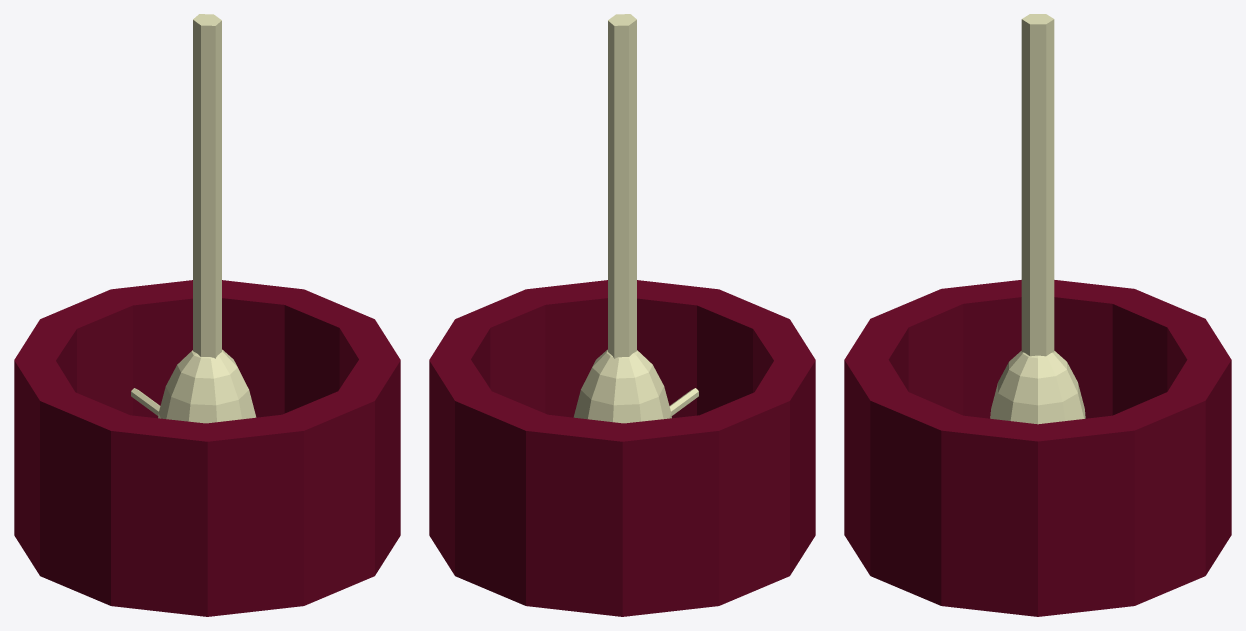
File: light1.fbx
The picture shows the model from 3 angles, left to right: view 1: azimuth 30°, elevation 25°; view 2: azimuth 150°, elevation 25°; view 3: azimuth 270°, elevation 25°; orthographic projection.
Visible parts, largest first — view 1: pPipe1, pasted__pasted__pasted__pCylinder1, pSphere1; view 2: pPipe1, pasted__pasted__pasted__pCylinder1, pSphere1; view 3: pPipe1, pasted__pasted__pasted__pCylinder1, pSphere1.
Boxes of the visible parts, x1,y1,x2,y2 form: pPipe1: (14, 280, 400, 616); pasted__pasted__pasted__pCylinder1: (193, 14, 221, 358); pSphere1: (158, 349, 256, 423); pPipe1: (429, 280, 815, 616); pasted__pasted__pasted__pCylinder1: (608, 14, 636, 358); pSphere1: (573, 349, 671, 423); pPipe1: (844, 280, 1231, 616); pasted__pasted__pasted__pCylinder1: (1021, 14, 1054, 356); pSphere1: (990, 351, 1085, 424).
Size of the model in its own units: 2 by 3 by 2.
